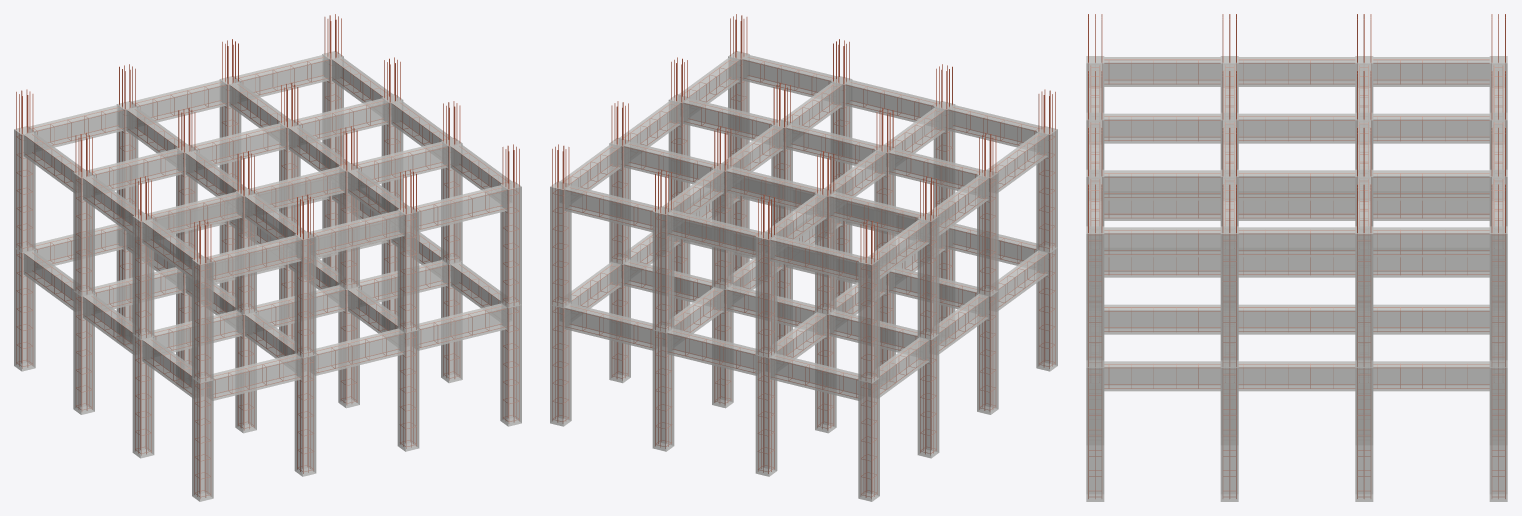
3 renders of one model, left to right at view 1: azimuth 30°, elevation 25°; view 2: azimuth 150°, elevation 25°; view 3: azimuth 270°, elevation 25°, orthographic. The views are drawn at different scales.
Parts seen in each view (by area): view 1: 0tGcxeohvRJfC8Sa5fZQ8g, 2tmGRkyOrPj8Wj4wDiNwZl, 3CHVUrZVLOLQ$74Ho3ntla, 2dddnSA7DTphl1HxvCSj6w, 3X9eepyKPTGxrtNLdYyW3e, 3sN5$cpxfOfgCksRZOREBd, 1EZPUyl4zVzxcW$gXybrGL, 0edPxI$XPHZPK5QENxoXkc, 1yqERpd3LOYRUqlVyPWFRp, 2zwNqMQQLTufwO7KgX6JsA, 3PQ9VWEC1HLviBT5zIa9jM, 0UHw78sKXU4h7VJWO_WlUx (+85 smaller); view 2: 2BqdQ_WULHxATZ8$VAWO7H, 3Cf$0wAE1KEPrwLTVGWGPe, 0dc5JUH_5Tqe_SxcmCWZ4R, 34ABx8qGXUgw_3TP5gS9ML, 1E$3JGbrHTLQRkRiWvozas, 3Q9T9I5QnOcxYxZAZ2ESn8, 0Qo1Pv8tXHPfWY9g5FSlGe, 1IGkPvCMbTwBRWqU62ta2_, 1Fo8ZeVXDV8Bvj5WJsgYuq, 3bROR7UU9HvB1g5zPBR60r, 3htBsqIzTTHPER5NF_q6mT, 0UDRyYCH9Oceql8kYq3ZKB (+85 smaller); view 3: 3dEKPizGTRZPq8csN2xkIg, 34NQxcQUTMnf$Gn6dMd2gn, 3Aq2IsNVzTRBPJ5QjnC3kD, 2pugeoWmzMg8X7QZRk5SuU, 3cDcxkeabRnh_t2UQO2zm0, 2S9NCz_NPVffgXK3wqSf$p, 2eFQ9ns6fGCAZtQysBjjPd, 1eseyi6jbGIwdH8LGPqTE5, 01dvhmV1HHBhetdn93X4zu, 1BSbS0cgjPDP7O8o60imLW, 1OeDYubnfU_QcpaeZHgHiF, 3KnhD1sGTLT8bTH43rAtCA (+54 smaller).
Boxes of the visible parts, bbox=[...] form: 0tGcxeohvRJfC8Sa5fZQ8g: bbox=[294, 231, 316, 358]; 2tmGRkyOrPj8Wj4wDiNwZl: bbox=[294, 350, 316, 476]; 3CHVUrZVLOLQ$74Ho3ntla: bbox=[192, 256, 213, 383]; 2dddnSA7DTphl1HxvCSj6w: bbox=[132, 213, 154, 340]; 3X9eepyKPTGxrtNLdYyW3e: bbox=[192, 375, 213, 501]; 3sN5$cpxfOfgCksRZOREBd: bbox=[397, 206, 419, 333]; 1EZPUyl4zVzxcW$gXybrGL: bbox=[397, 325, 419, 451]; 0edPxI$XPHZPK5QENxoXkc: bbox=[500, 181, 521, 308]; 1yqERpd3LOYRUqlVyPWFRp: bbox=[412, 185, 507, 232]; 2zwNqMQQLTufwO7KgX6JsA: bbox=[132, 332, 154, 458]; 3PQ9VWEC1HLviBT5zIa9jM: bbox=[311, 210, 404, 257]; 0UHw78sKXU4h7VJWO_WlUx: bbox=[500, 300, 521, 426]; 2BqdQ_WULHxATZ8$VAWO7H: bbox=[652, 206, 674, 333]; 3Cf$0wAE1KEPrwLTVGWGPe: bbox=[755, 231, 777, 358]; 0dc5JUH_5Tqe_SxcmCWZ4R: bbox=[652, 325, 674, 451]; 34ABx8qGXUgw_3TP5gS9ML: bbox=[755, 350, 777, 476]; 1E$3JGbrHTLQRkRiWvozas: bbox=[858, 256, 879, 383]; 3Q9T9I5QnOcxYxZAZ2ESn8: bbox=[858, 375, 879, 501]; 0Qo1Pv8tXHPfWY9g5FSlGe: bbox=[917, 213, 939, 340]; 1IGkPvCMbTwBRWqU62ta2_: bbox=[550, 181, 571, 308]; 1Fo8ZeVXDV8Bvj5WJsgYuq: bbox=[917, 332, 939, 458]; 3bROR7UU9HvB1g5zPBR60r: bbox=[667, 210, 760, 257]; 3htBsqIzTTHPER5NF_q6mT: bbox=[564, 185, 659, 232]; 0UDRyYCH9Oceql8kYq3ZKB: bbox=[770, 235, 864, 282]; 3dEKPizGTRZPq8csN2xkIg: bbox=[1238, 170, 1355, 200]; 34NQxcQUTMnf$Gn6dMd2gn: bbox=[1238, 304, 1355, 334]; 3Aq2IsNVzTRBPJ5QjnC3kD: bbox=[1238, 361, 1355, 391]; 2pugeoWmzMg8X7QZRk5SuU: bbox=[1238, 113, 1355, 143]; 3cDcxkeabRnh_t2UQO2zm0: bbox=[1238, 227, 1355, 257]; 2S9NCz_NPVffgXK3wqSf$p: bbox=[1104, 304, 1220, 334]; 2eFQ9ns6fGCAZtQysBjjPd: bbox=[1373, 304, 1489, 334]; 1eseyi6jbGIwdH8LGPqTE5: bbox=[1104, 361, 1220, 391]; 01dvhmV1HHBhetdn93X4zu: bbox=[1373, 361, 1489, 391]; 1BSbS0cgjPDP7O8o60imLW: bbox=[1104, 113, 1220, 143]; 1OeDYubnfU_QcpaeZHgHiF: bbox=[1373, 113, 1489, 143]; 3KnhD1sGTLT8bTH43rAtCA: bbox=[1104, 170, 1220, 200].
Bounding box in the file's own units: 9.4 × 7.65 × 9.4.
